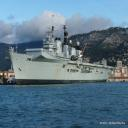Portanaves: (6, 19, 116, 88)
